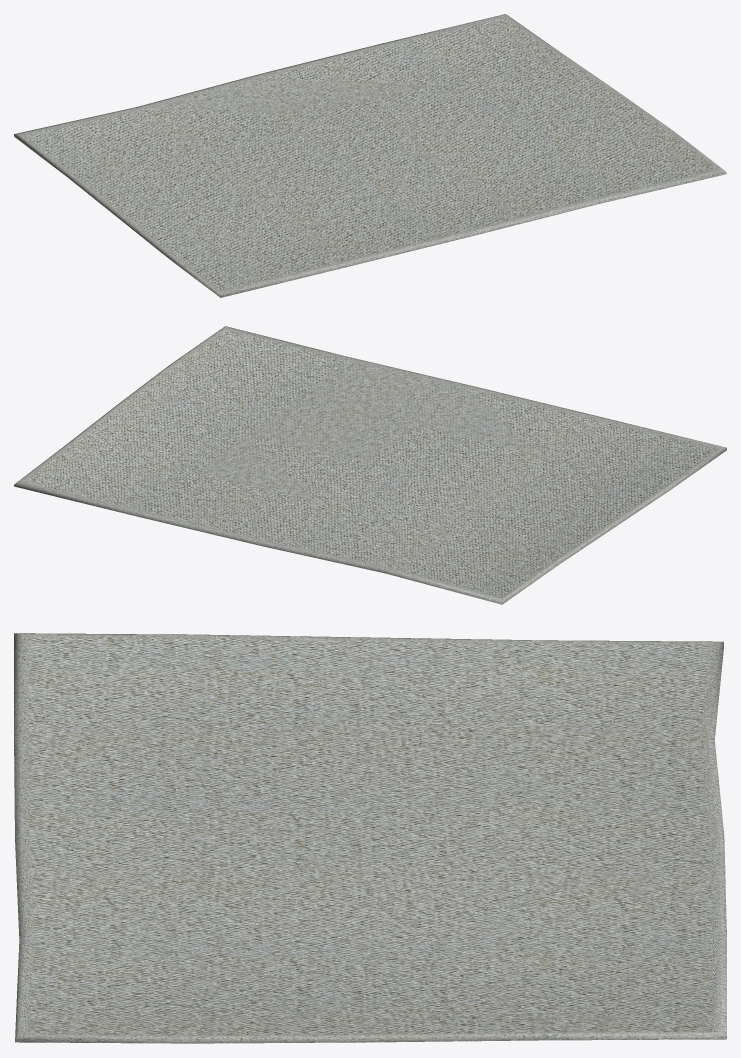
Rendered from Carpet.fbx.
3 views of the same model, one above another, from view 1: azimuth 30°, elevation 25°; view 2: azimuth 150°, elevation 25°; view 3: azimuth 270°, elevation 25° (orthographic). The views are drawn at different scales.
Visible parts, largest first — view 1: Carpet; view 2: Carpet; view 3: Carpet.
Boxes of the visible parts, box(x1,y1,x2,y2) form: Carpet: box(14, 14, 726, 297); Carpet: box(14, 326, 726, 604); Carpet: box(14, 633, 726, 1043).
Size of the model in its own units: 1.76 by 0.0162 by 1.31.
Materials: 1 (1 with a texture image).
